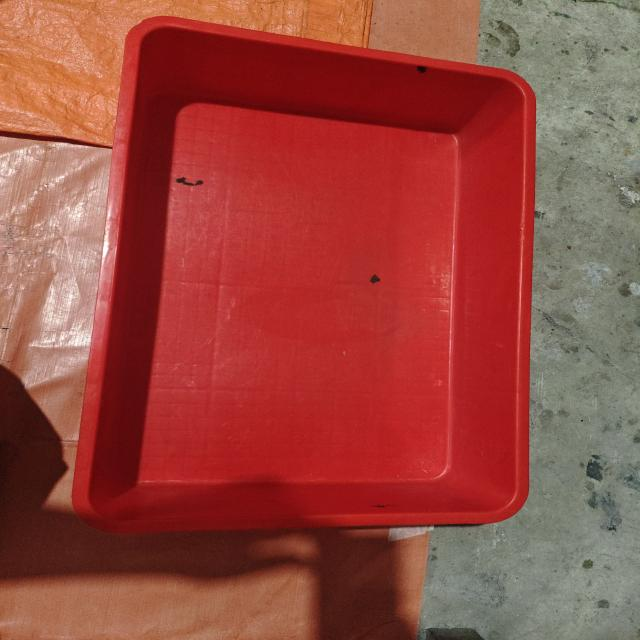red plastic box: (72, 16, 537, 534)
